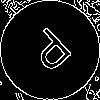P: (25, 25, 81, 81)
